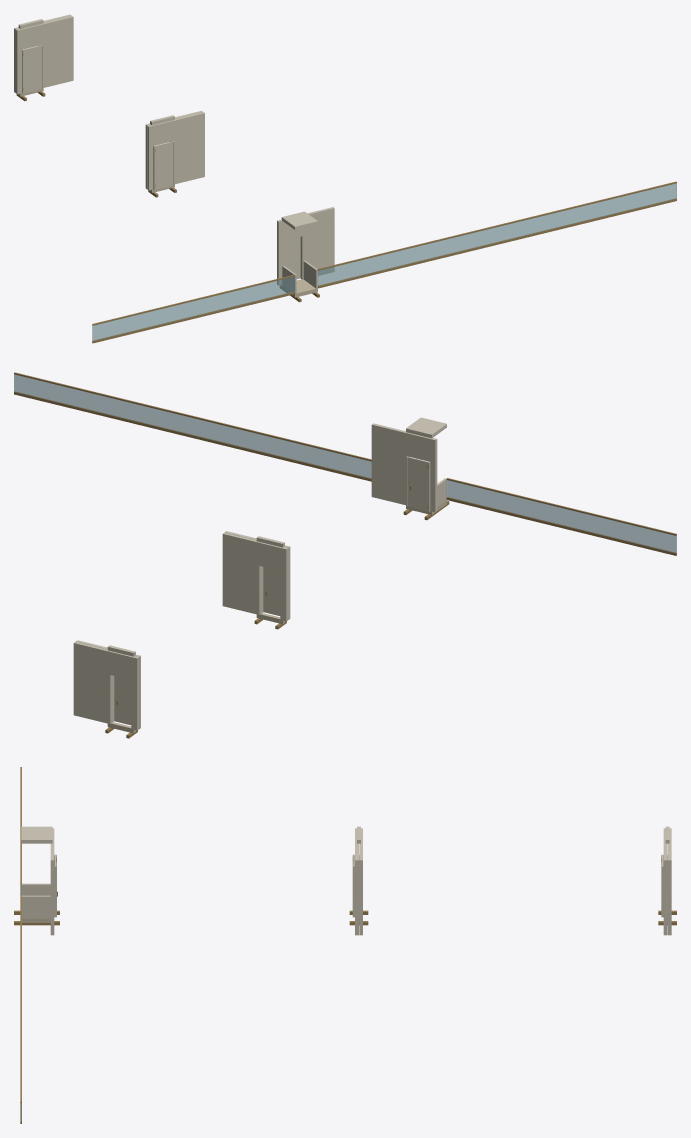
Rendered from D04_COURT_SERVICE_GATES_r002.glb.
3 views of the same model, one above another, from view 1: azimuth 30°, elevation 25°; view 2: azimuth 150°, elevation 25°; view 3: azimuth 270°, elevation 25° (orthographic). The views are drawn at different scales.
Parts seen in each view (by area): view 1: D04PCS_D04PF_UpperGuard_14_Right, D04PCS_D04PF_UpperGuard_14_Left, D04PCS_D04HC_east_End_0_Right, D04PCS_D04HC2_east_End_0_Right, D04PCS_D04HC_east_End_1_Right, D04PCS_D04PF_UpperGuard_14_Base_Right, D04PCS_D04PF_UpperGuard_14_Cap_Right, D04PCS_OpaqueGate_1, D04PCS_OpaqueGate_2, D04PCS_D04PF_UpperGuard_14_Base_Left, D04PCS_OpaqueGate_0, D04PCS_D04PF_UpperGuard_14_Cap_Left; view 2: D04PCS_D04PF_UpperGuard_14_Right, D04PCS_D04PF_UpperGuard_14_Left, D04PCS_D04HC2_east_End_1_Right, D04PCS_D04HC3_east_End_1_Right, D04PCS_D04HC_east_End_1_Right, D04PCS_D04PF_UpperGuard_14_Base_Right, D04PCS_OpaqueGate_0, D04PCS_D04PF_UpperGuard_14_Cap_Right, D04PCS_D04PF_UpperGuard_14_Base_Left, D04PCS_OpaqueGate_1, D04PCS_OpaqueGate_2, D04PCS_D04HC2_east_End_1_Left (+4 smaller); view 3: D04PCS_LinkEdge_0_1, D04PCS_LinkRoof_0.
Part boxes in pixels (box(x1,y1,x2,y2)): D04PCS_D04PF_UpperGuard_14_Right: box(318, 183, 676, 285); D04PCS_D04PF_UpperGuard_14_Left: box(92, 276, 295, 340); D04PCS_D04HC_east_End_0_Right: box(172, 112, 204, 184); D04PCS_D04HC2_east_End_0_Right: box(40, 16, 73, 87); D04PCS_D04HC_east_End_1_Right: box(301, 207, 334, 279); D04PCS_D04PF_UpperGuard_14_Base_Right: box(318, 198, 676, 288); D04PCS_D04PF_UpperGuard_14_Cap_Right: box(317, 181, 676, 270); D04PCS_OpaqueGate_1: box(155, 141, 173, 189); D04PCS_OpaqueGate_2: box(23, 45, 41, 93); D04PCS_D04PF_UpperGuard_14_Base_Left: box(92, 291, 295, 343); D04PCS_OpaqueGate_0: box(284, 237, 300, 279); D04PCS_D04PF_UpperGuard_14_Cap_Left: box(92, 274, 295, 325); D04PCS_D04PF_UpperGuard_14_Right: box(14, 374, 371, 478); D04PCS_D04PF_UpperGuard_14_Left: box(447, 480, 676, 553); D04PCS_D04HC2_east_End_1_Right: box(222, 532, 260, 614); D04PCS_D04HC3_east_End_1_Right: box(73, 641, 111, 723); D04PCS_D04HC_east_End_1_Right: box(371, 423, 409, 505); D04PCS_D04PF_UpperGuard_14_Base_Right: box(14, 391, 371, 481); D04PCS_OpaqueGate_0: box(407, 457, 428, 511); D04PCS_D04PF_UpperGuard_14_Cap_Right: box(14, 372, 371, 461); D04PCS_D04PF_UpperGuard_14_Base_Left: box(446, 497, 676, 555); D04PCS_OpaqueGate_1: box(263, 567, 280, 615); D04PCS_OpaqueGate_2: box(114, 676, 131, 725); D04PCS_D04HC2_east_End_1_Left: box(280, 547, 288, 621); D04PCS_LinkEdge_0_1: box(21, 895, 50, 918); D04PCS_LinkRoof_0: box(21, 826, 52, 843).
Bounding box in the file's own units: 37.95 × 4.56 × 31.8.
4 materials, 3 textured.
